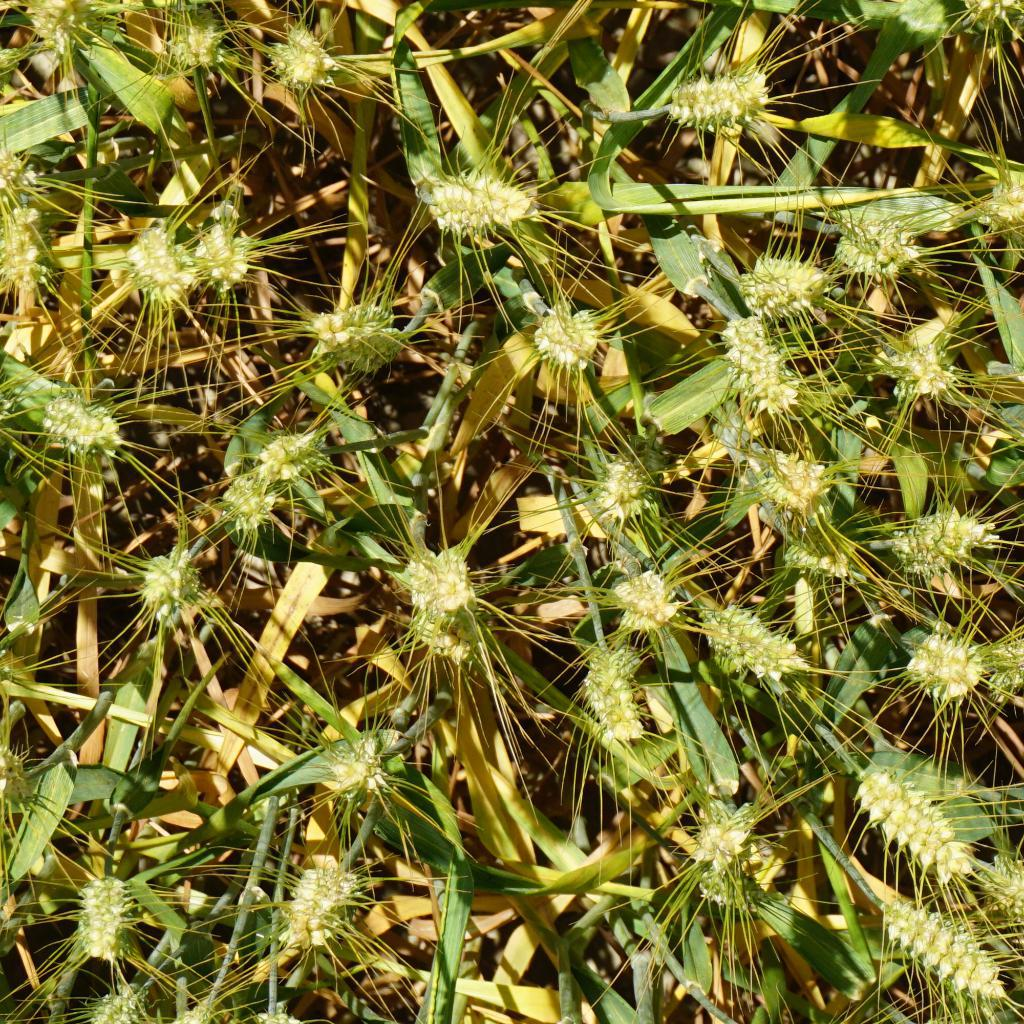0-0: (880, 897, 1005, 1008), (855, 774, 975, 887), (419, 155, 527, 231), (270, 863, 359, 953), (883, 511, 999, 580), (719, 313, 794, 418), (313, 291, 410, 367), (669, 65, 771, 134), (708, 608, 803, 679), (40, 390, 125, 466), (78, 863, 142, 959), (737, 252, 829, 318), (827, 214, 921, 278), (161, 0, 239, 77), (132, 546, 208, 624), (125, 216, 192, 303), (876, 335, 961, 398), (580, 651, 642, 735), (534, 298, 603, 372), (781, 518, 865, 578), (23, 0, 103, 61), (189, 212, 249, 292), (410, 543, 481, 608), (757, 445, 827, 509), (275, 23, 341, 85), (918, 635, 983, 697), (612, 565, 677, 626), (692, 797, 754, 860), (969, 175, 1024, 244), (0, 213, 49, 290), (600, 453, 655, 521), (693, 859, 756, 918), (419, 608, 486, 663), (325, 733, 379, 800), (260, 432, 329, 479), (0, 146, 42, 216), (0, 752, 45, 815), (95, 976, 150, 1024), (222, 479, 271, 527), (993, 863, 1024, 928), (989, 633, 1024, 685), (179, 986, 223, 1024), (960, 0, 1017, 23), (0, 638, 14, 698), (0, 387, 14, 438)
